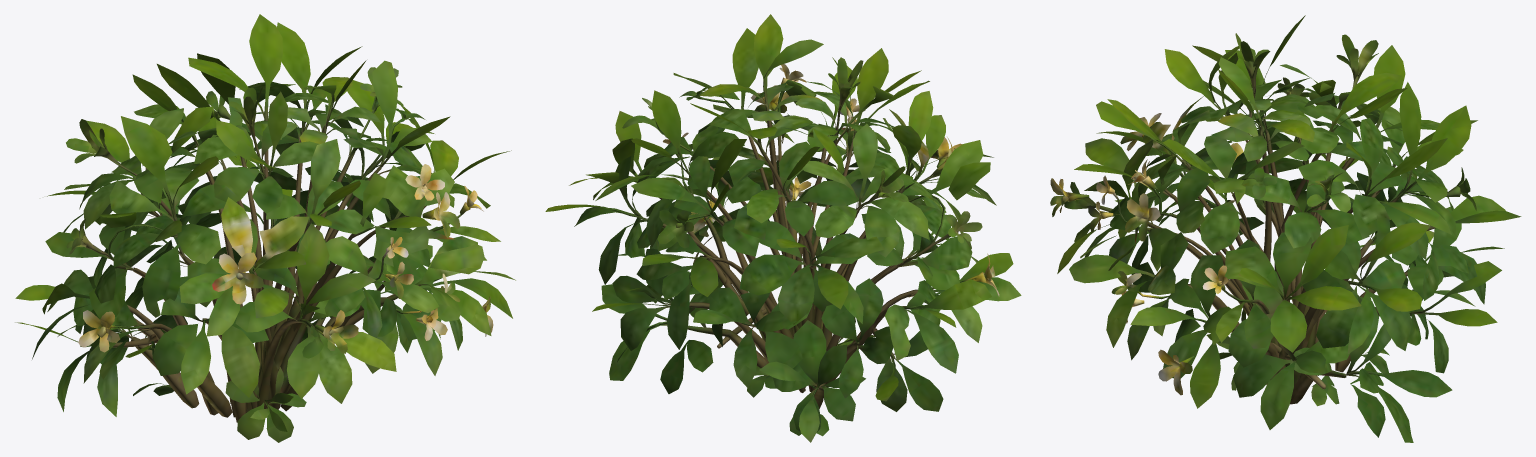
The model's file is 02_Semak_Rimbun.glb.
3 renders of one model, left to right at view 1: azimuth 30°, elevation 25°; view 2: azimuth 150°, elevation 25°; view 3: azimuth 270°, elevation 25°, orthographic. The views are drawn at different scales.
Visible parts, largest first — view 1: 02_Semak_Rimbun; view 2: 02_Semak_Rimbun; view 3: 02_Semak_Rimbun.
Part boxes in pixels (left/top/right/bottom): 02_Semak_Rimbun: left=15, top=14, right=515, bottom=442; 02_Semak_Rimbun: left=545, top=14, right=1021, bottom=442; 02_Semak_Rimbun: left=1050, top=15, right=1521, bottom=442.
Size of the model in its own units: 1.49 by 1.2 by 1.42.
Materials: 1 (1 with a texture image).
